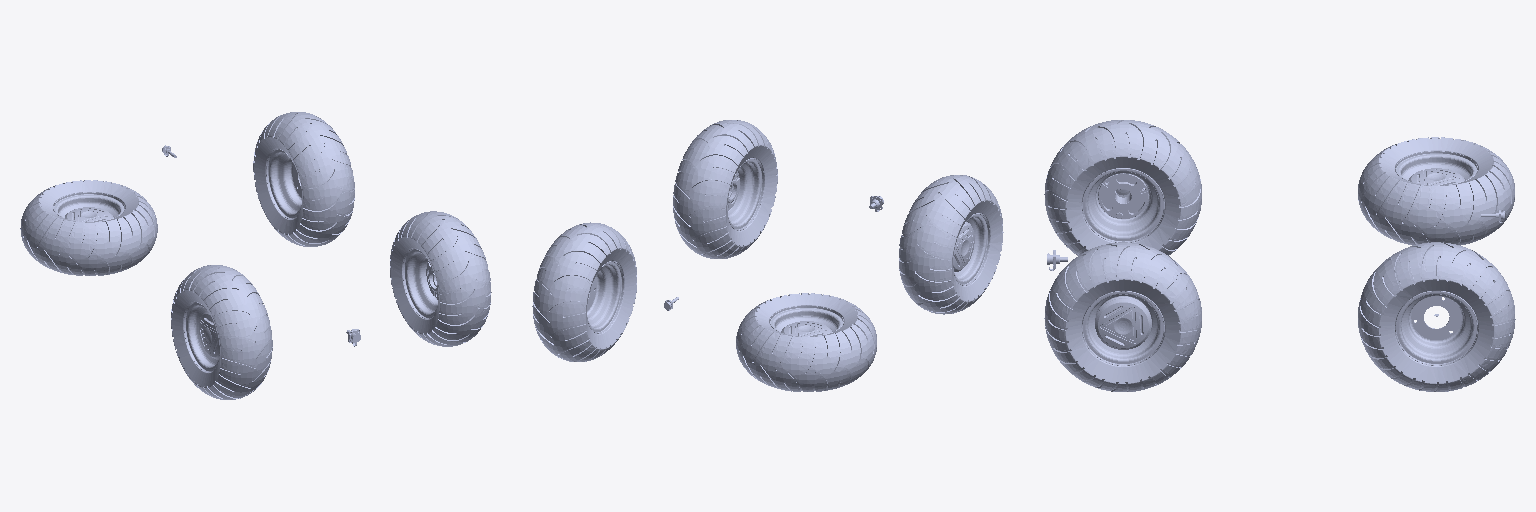
The robot description file, URDF, robot "hunter2_base":
<?xml version="1.0" encoding="utf-8"?>
<!-- This URDF was automatically created by SolidWorks to URDF Exporter! Originally created by [author] ([email redacted]) 
     Commit Version: 1.6.0-1-g15f4949  Build Version: 1.6.7594.29634
     For more information, please see http://wiki.ros.org/sw_urdf_exporter -->
<robot
  name="hunter2_base">
  <link name="base_link">
    <inertial>
      <origin
        xyz="-0.0004092 0.026699 -0.1359"
        rpy="0 0 0" />
      <mass
        value="6.0295" />
      <inertia
        ixx="0.11107"
        ixy="1.0132E-06"
        ixz="5.1331E-07"
        iyy="0.033237"
        iyz="-0.0018886"
        izz="0.12661" />
    </inertial>
    <visual>
      <origin
        xyz="0 0 0"
        rpy="0 0 0" />
      <geometry>
        <mesh
          filename="package://hunter2_base/meshes/base_link.STL" />
      </geometry>
      <material
        name="">
        <color
          rgba="0.79216 0.81961 0.93333 1" />
      </material>
    </visual>
    <collision>
      <origin
        xyz="0 0 0"
        rpy="0 0 0" />
      <geometry>
        <mesh
          filename="package://hunter2_base/meshes/base_link.STL" />
      </geometry>
    </collision>
  </link>

  <link
    name="front_steer_left_link">
    <inertial>
      <origin
        xyz="0.0023132 0.012614 -1.8116E-05"
        rpy="0 0 0" />
      <mass
        value="0.2526" />
      <inertia
        ixx="0.11091"
        ixy="-3.1921E-07"
        ixz="-2.9854E-08"
        iyy="0.063827"
        iyz="1.5154E-07"
        izz="0.063827" />
    </inertial>
    <visual>
      <origin
        xyz="0 0 0"
        rpy="0 0 0" />
      <geometry>
       <cylinder length="0.001" radius="0.005"/>
      </geometry>
      <material
        name="">
        <color
          rgba="0.79216 0.81961 0.93333 1" />
      </material>
    </visual>
    <collision>
      <origin
        xyz="0 0 0"
        rpy="0 0 0" />
      <geometry>
       <cylinder length="0.001" radius="0.005"/>
      </geometry>
    </collision>
  </link>
  <joint
    name="front_steer_left_joint"
    type="revolute">
    <origin
      xyz="-0.29199 0.37142 -0.1955"
      rpy="3.1416 0 0" />
    <parent
      link="base_link" />
    <child
      link="front_steer_left_link" />
    <axis
      xyz="0 0 1" />
    <limit
      lower="-0.69"
      upper="0.69"
      effort="0"
      velocity="0" />
  </joint>

  <link
    name="front_left_wheel_link">
    <inertial>
      <origin
        xyz="-0.0096386 6.5774E-06 -2.0242E-05"
        rpy="0 0 0" />
      <mass
        value="7.7007" />
      <inertia
        ixx="0.11072"
        ixy="-2.2753E-07"
        ixz="4.88E-08"
        iyy="0.063724"
        iyz="-3.8745E-08"
        izz="0.063724" />
    </inertial>
    <visual>
      <origin
        xyz="0 0 0"
        rpy="0 0 0" />
      <geometry>
        <mesh
          filename="package://hunter2_base/meshes/front_left_wheel_link.STL" />
      </geometry>
      <material
        name="">
        <color
          rgba="0.79216 0.81961 0.93333 1" />
      </material>
    </visual>
    <collision>
      <origin
        xyz="0 0 0"
        rpy="0 0 0" />
      <geometry>
        <mesh
          filename="package://hunter2_base/meshes/front_left_wheel_link.STL" />
      </geometry>
    </collision>
  </link>
  <joint
    name="front_left_wheel_joint"
    type="continuous">
    <origin
      xyz="0 0 0"
      rpy="0 0 0" />
    <parent
      link="front_steer_left_link" />
    <child
      link="front_left_wheel_link" />
    <axis
      xyz="-1 0 0" />
  </joint>
  
  <link
    name="front_steer_right_link">
    <inertial>
      <origin
        xyz="0.0095958 8.9374E-08 -1.0997E-07"
        rpy="0 0 0" />
      <mass
        value="0.2526" />
      <inertia
        ixx="0.11068"
        ixy="2.0159E-08"
        ixz="-6.4721E-08"
        iyy="0.063704"
        iyz="-6.3892E-08"
        izz="0.063704" />
    </inertial>
    <visual>
      <origin
        xyz="0 0 0"
        rpy="0 0 0" />
      <geometry>
       <cylinder length="0.001" radius="0.005"/>
      </geometry>
      <material
        name="">
        <color
          rgba="0.79216 0.81961 0.93333 1" />
      </material>
    </visual>
    <collision>
      <origin
        xyz="0 0 0"
        rpy="0 0 0" />
      <geometry>
       <cylinder length="0.001" radius="0.005"/>
      </geometry>
    </collision>
  </link>
  <joint
    name="front_steer_right_joint"
    type="revolute">
    <origin
      xyz="0.29201 0.37142 -0.1955"
      rpy="3.1416 0 0" />
    <parent
      link="base_link" />
    <child
      link="front_steer_right_link" />
    <axis
      xyz="0 0 1" />
    <limit
      lower="-0.69"
      upper="0.69"
      effort="0"
      velocity="0" />
  </joint>

  <link
    name="front_right_wheel_link">
    <inertial>
      <origin
        xyz="0.0095049 9.1148E-08 -1.1284E-07"
        rpy="0 0 0" />
      <mass
        value="7.5613" />
      <inertia
        ixx="0.11054"
        ixy="2.0164E-08"
        ixz="-6.4721E-08"
        iyy="0.063626"
        iyz="-6.4092E-08"
        izz="0.063626" />
    </inertial>
    <visual>
      <origin
        xyz="0 0 0"
        rpy="0 0 0" />
      <geometry>
        <mesh
          filename="package://hunter2_base/meshes/front_right_wheel_link.STL" />
      </geometry>
      <material
        name="">
        <color
          rgba="0.79216 0.81961 0.93333 1" />
      </material>
    </visual>
    <collision>
      <origin
        xyz="0 0 0"
        rpy="0 0 0" />
      <geometry>
        <mesh
          filename="package://hunter2_base/meshes/front_right_wheel_link.STL" />
      </geometry>
    </collision>
  </link>
  <joint
    name="front_right_wheel_joint"
    type="continuous">
    <origin
      xyz="0 0 0"
      rpy="0 0 0" />
    <parent
      link="front_steer_right_link" />
    <child
      link="front_right_wheel_link" />
    <axis
      xyz="-1 0 0" />
  </joint>
  <link
    name="left_rear_link">
    <inertial>
      <origin
        xyz="-0.0096491 8.826E-05 -6.4342E-05"
        rpy="0 0 0" />
      <mass
        value="7.6692" />
      <inertia
        ixx="0.11067"
        ixy="-2.638E-08"
        ixz="5.9934E-08"
        iyy="0.063699"
        iyz="-2.542E-07"
        izz="0.063699" />
    </inertial>
    <visual>
      <origin
        xyz="0 0 0"
        rpy="0 0 0" />
      <geometry>
        <mesh
          filename="package://hunter2_base/meshes/left_rear_link.STL" />
      </geometry>
      <material
        name="">
        <color
          rgba="0.79216 0.81961 0.93333 1" />
      </material>
    </visual>
    <collision>
      <origin
        xyz="0 0 0"
        rpy="0 0 0" />
      <geometry>
        <mesh
          filename="package://hunter2_base/meshes/left_rear_link.STL" />
      </geometry>
    </collision>
  </link>
  <joint
    name="left_rear_joint"
    type="continuous">
    <origin
      xyz="-0.29249 -0.28 -0.19558"
      rpy="3.1416 0 0" />
    <parent
      link="base_link" />
    <child
      link="left_rear_link" />
    <axis
      xyz="-1 0 0" />
    <limit
      effort="100"
      velocity="1" />
  </joint>
  <link
    name="right_rear_link">
    <inertial>
      <origin
        xyz="0.0097824 -8.6542E-05 -7.4259E-05"
        rpy="0 0 0" />
      <mass
        value="7.7133" />
      <inertia
        ixx="0.11073"
        ixy="-2.6538E-08"
        ixz="-5.987E-08"
        iyy="0.06373"
        iyz="2.5385E-07"
        izz="0.06373" />
    </inertial>
    <visual>
      <origin
        xyz="0 0 0"
        rpy="0 0 0" />
      <geometry>
        <mesh
          filename="package://hunter2_base/meshes/right_rear_link.STL" />
      </geometry>
      <material
        name="">
        <color
          rgba="0.79216 0.81961 0.93333 1" />
      </material>
    </visual>
    <collision>
      <origin
        xyz="0 0 0"
        rpy="0 0 0" />
      <geometry>
        <mesh
          filename="package://hunter2_base/meshes/right_rear_link.STL" />
      </geometry>
    </collision>
  </link>
  <joint
    name="right_rear_joint"
    type="continuous">
    <origin
      xyz="0.29251 -0.28018 -0.19558"
      rpy="3.1416 0 0" />
    <parent
      link="base_link" />
    <child
      link="right_rear_link" />
    <axis
      xyz="-1 0 0" />
    <limit
      effort="100"
      velocity="1" />
  </joint>
  <link
    name="front_steer_link">
    <inertial>
      <origin
        xyz="-8.1046E-15 0.049836 0.017912"
        rpy="0 0 0" />
      <mass
        value="0.0049179" />
      <inertia
        ixx="7.549E-07"
        ixy="4.1693E-23"
        ixz="1.9576E-22"
        iyy="1.6846E-07"
        iyz="-1.0974E-08"
        izz="7.334E-07" />
    </inertial>
    <visual>
      <origin
        xyz="0 0 0"
        rpy="0 0 0" />
      <geometry>
        <mesh
          filename="package://hunter2_base/meshes/front_steer_link.STL" />
      </geometry>
      <material
        name="">
        <color
          rgba="0.79216 0.81961 0.93333 1" />
      </material>
    </visual>
    <collision>
      <origin
        xyz="0 0 0"
        rpy="0 0 0" />
      <geometry>
        <mesh
          filename="package://hunter2_base/meshes/front_steer_link.STL" />
      </geometry>
    </collision>
  </link>
  <joint
    name="front_steer_joint"
    type="revolute">
    <origin
      xyz="1.1431E-05 0.44792 -0.121"
      rpy="0 0 0" />
    <parent
      link="base_link" />
    <child
      link="front_steer_link" />
    <axis
      xyz="0 0 1" />
    <limit
      lower="-0.72"
      upper="0.72"
      effort="0"
      velocity="0" />
  </joint>
  <link
    name="rear_wheel_link">
    <inertial>
      <origin
        xyz="-0.02 0.0031269 -0.12735"
        rpy="0 0 0" />
      <mass
        value="0.010062" />
      <inertia
        ixx="1.1821E-06"
        ixy="9.6965E-13"
        ixz="-3.1553E-12"
        iyy="9.5276E-07"
        iyz="1.2428E-08"
        izz="1.0913E-06" />
    </inertial>
    <visual>
      <origin
        xyz="0 0 0"
        rpy="0 0 0" />
      <geometry>
        <mesh
          filename="package://hunter2_base/meshes/rear_wheel_link.STL" />
      </geometry>
      <material
        name="">
        <color
          rgba="0.79216 0.81961 0.93333 1" />
      </material>
    </visual>
    <collision>
      <origin
        xyz="0 0 0"
        rpy="0 0 0" />
      <geometry>
        <mesh
          filename="package://hunter2_base/meshes/rear_wheel_link.STL" />
      </geometry>
    </collision>
  </link>
  <joint
    name="rear_wheel_joint"
    type="revolute">
    <origin
      xyz="1.1431E-05 -0.42408 -0.085581"
      rpy="0 0 0" />
    <parent
      link="base_link" />
    <child
      link="rear_wheel_link" />
    <axis
      xyz="0 0 1" />
    <limit
      lower="-0.72"
      upper="0.72"
      effort="0"
      velocity="0" />
  </joint>

  <gazebo>
    <plugin name="gazebo_ros_control" filename="libgazebo_ros_control.so">
      <robotNamespace>/</robotNamespace>
      <robotSimType>steer_bot_hardware_gazebo/SteerBotHardwareGazebo</robotSimType>
      <legacyModeNS>false</legacyModeNS>
    </plugin>
  </gazebo>



</robot>

--- What the picture shows (computed from the rendered views, not written in the file) ---
3 views of the same robot in one strip: view 1: azimuth 30°, elevation 25°; view 2: azimuth 150°, elevation 25°; view 3: azimuth 270°, elevation 25° (orthographic).
Model hunter2_base with 9 links and 8 joints (4 revolute, 4 continuous), rooted at base_link, posed all joints at 0.
Links seen in each view (by area): view 1: left_rear_link, front_right_wheel_link, right_rear_link, front_left_wheel_link; view 2: right_rear_link, front_right_wheel_link, left_rear_link, front_left_wheel_link; view 3: right_rear_link, front_right_wheel_link, left_rear_link, front_left_wheel_link.
Link boxes in pixels (bbox=[...]): left_rear_link: bbox=[171, 265, 272, 399]; front_right_wheel_link: bbox=[253, 112, 354, 246]; right_rear_link: bbox=[390, 211, 491, 346]; front_left_wheel_link: bbox=[20, 180, 157, 275]; right_rear_link: bbox=[673, 120, 777, 258]; front_right_wheel_link: bbox=[532, 222, 636, 361]; left_rear_link: bbox=[899, 175, 1003, 314]; front_left_wheel_link: bbox=[736, 293, 876, 391]; right_rear_link: bbox=[1044, 242, 1201, 391]; front_right_wheel_link: bbox=[1358, 242, 1515, 391]; left_rear_link: bbox=[1044, 120, 1201, 255]; front_left_wheel_link: bbox=[1358, 137, 1514, 245].
Bounding box of the posed robot: 0.8288 × 0.9797 × 0.3282 m (x, y, z).
Meshes: 7 distinct files referenced, 6 mesh visuals loaded (6 binary STL); not drawn: 1 (reference not matched to a file when rendering).
